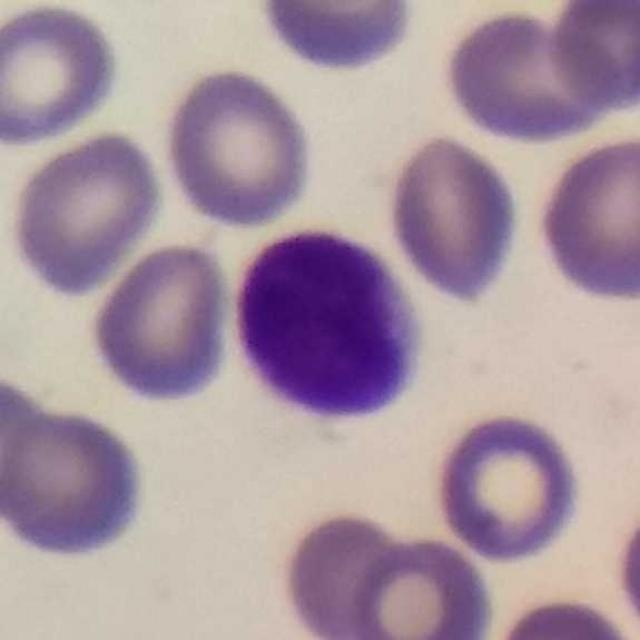Lymphocyte: (221, 216, 433, 435)
RBC: (2, 127, 168, 300), (433, 9, 622, 154), (159, 64, 318, 232), (84, 237, 237, 409), (426, 406, 588, 567), (382, 129, 525, 307), (0, 399, 155, 563), (530, 129, 640, 307), (276, 506, 420, 639), (0, 0, 126, 151), (345, 531, 499, 640), (249, 0, 423, 78), (551, 0, 640, 120), (0, 367, 60, 522), (485, 592, 638, 640), (611, 496, 640, 638)
